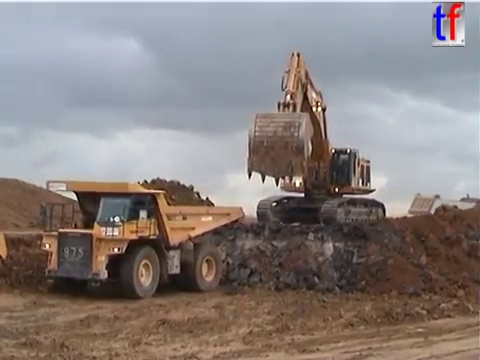excavator: (243, 49, 390, 232)
truck: (38, 178, 247, 300), (405, 191, 480, 228), (1, 230, 8, 263)
